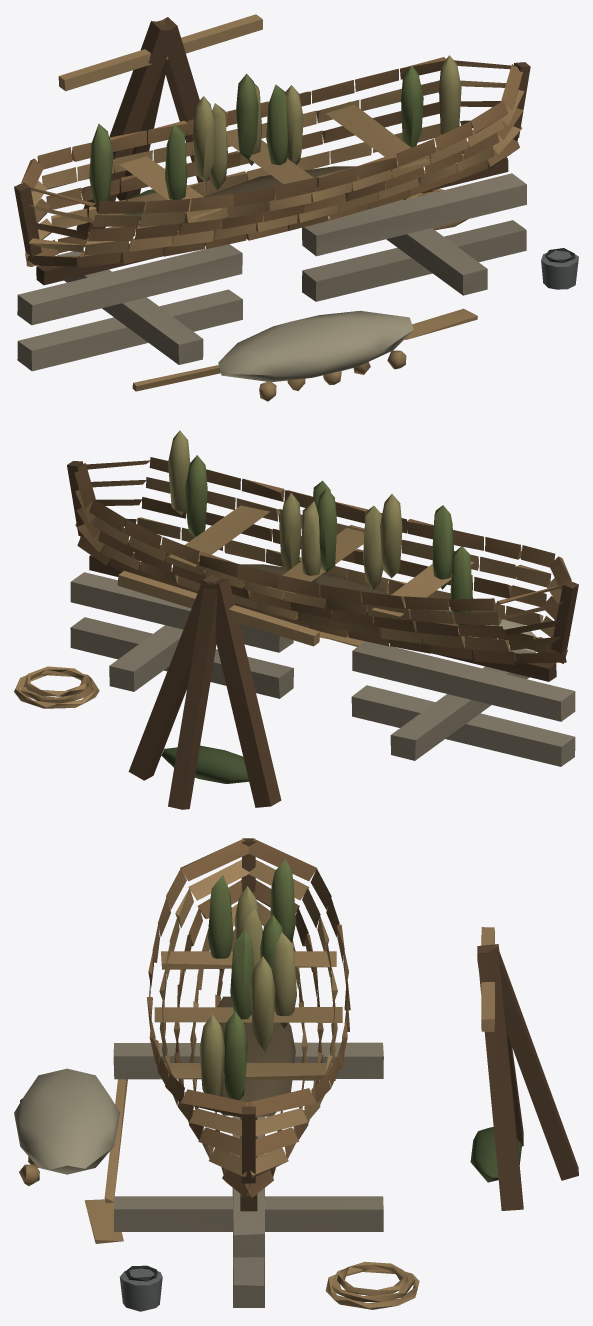
File: skiff_on_blocks_c_lod2.glb
The picture shows the model from 3 angles, top to bottom: view 1: azimuth 30°, elevation 25°; view 2: azimuth 150°, elevation 25°; view 3: azimuth 270°, elevation 25°; orthographic projection. The views are drawn at different scales.
Parts seen in each view (by area): view 1: Surface.001; view 2: Surface.001; view 3: Surface.001.
Boxes of the visible parts, x1,y1,x2,y2 form: Surface.001: [14, 14, 578, 401]; Surface.001: [14, 430, 578, 809]; Surface.001: [14, 838, 578, 1311].
Size of the model in its own units: 7.91 by 3.43 by 6.84.
